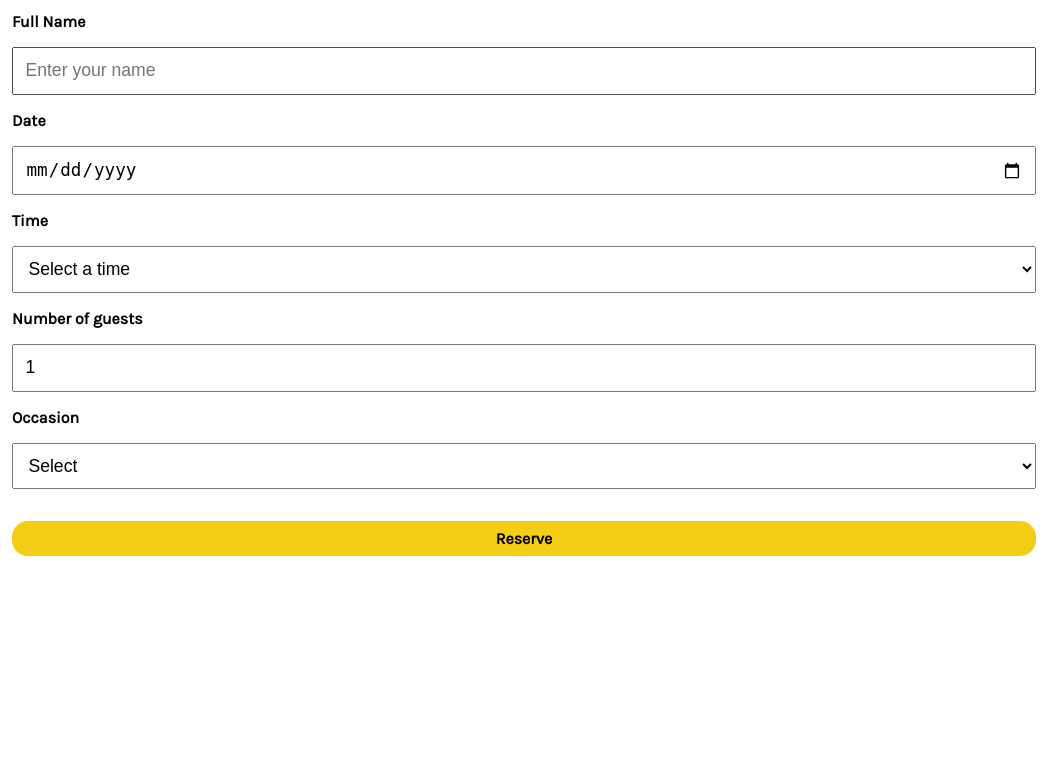
BookingForm › shows error when guests number is too high
Replace the text in the number field labelled "Number of guests" with "11" at [524, 368], box [12,344,1036,392]
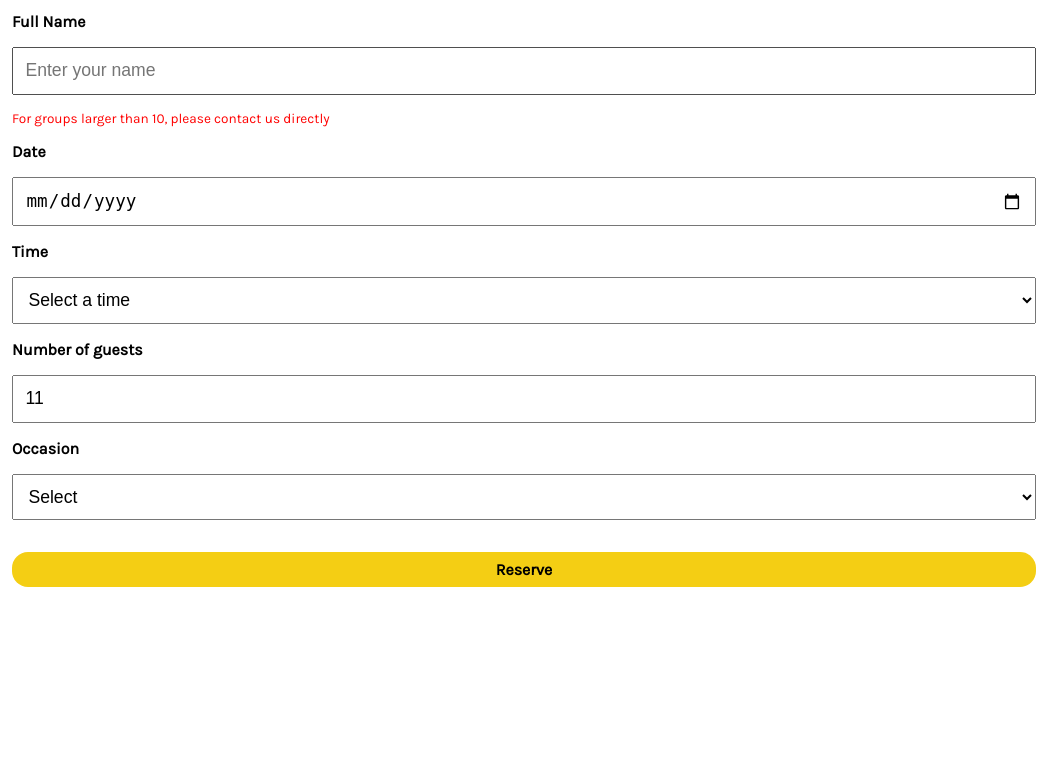
Expected: the text "For groups larger than 10, please contact us directly" is shown, [12,111,330,126]
